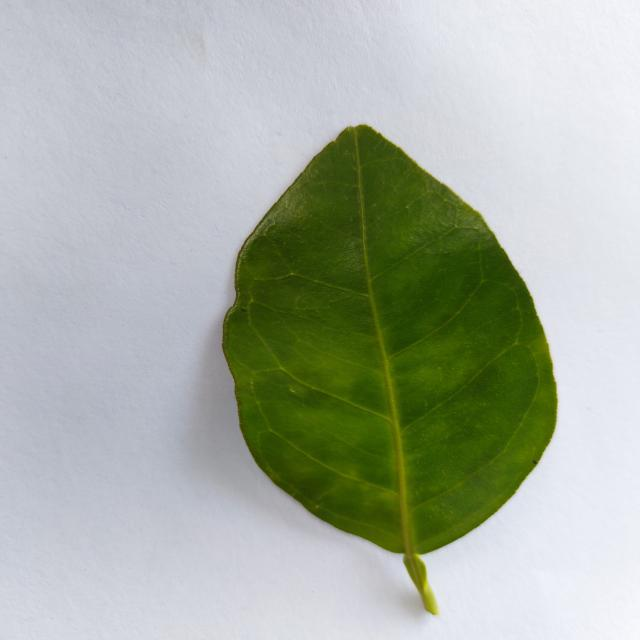greening: (223, 125, 557, 614)
